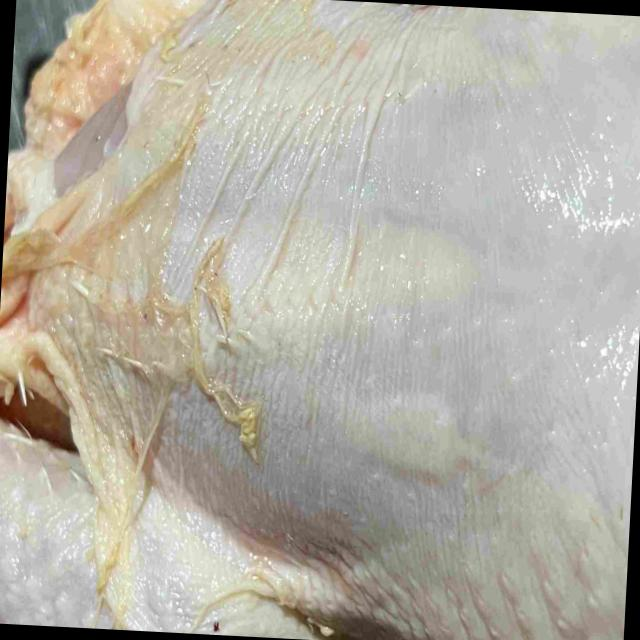breast: (37, 3, 640, 640)
leg: (0, 427, 339, 640)
